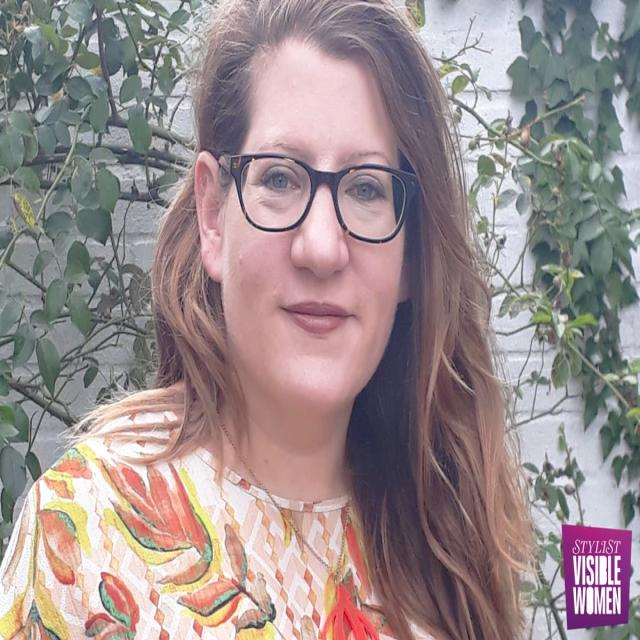human: (17, 1, 530, 640)
